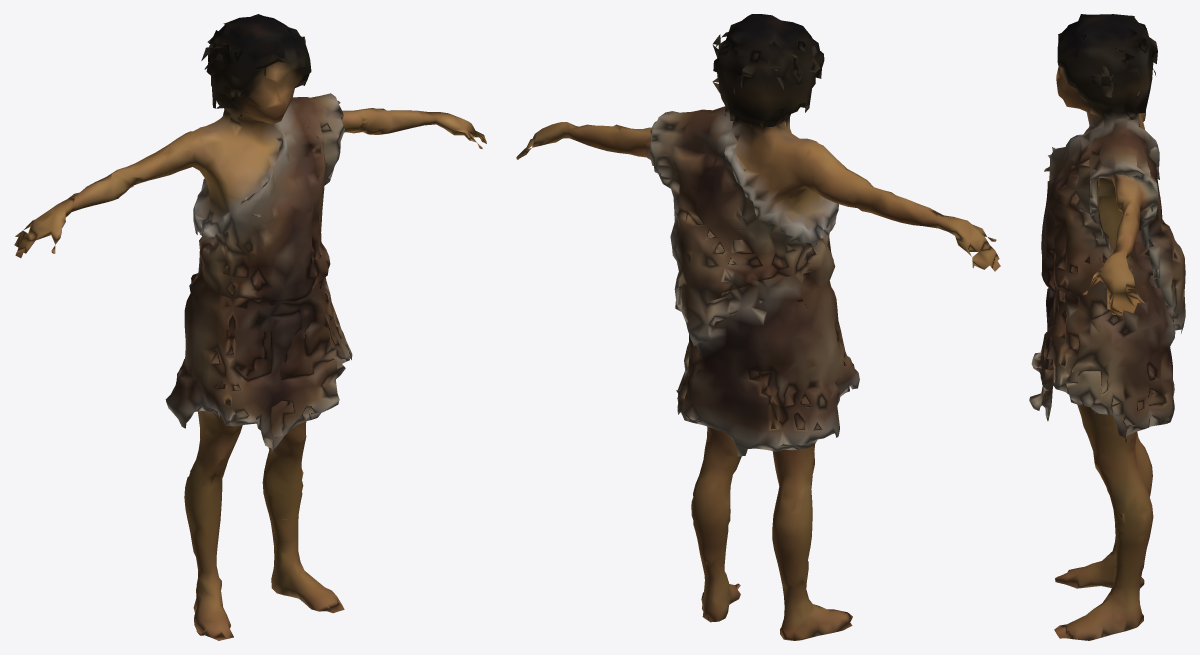
File: hoehlenfrau.glb
The picture shows the model from 3 angles, left to right: view 1: azimuth 30°, elevation 25°; view 2: azimuth 150°, elevation 25°; view 3: azimuth 270°, elevation 25°; orthographic projection.
Bounding box in the file's own units: 1.56 × 1.88 × 0.4519.
